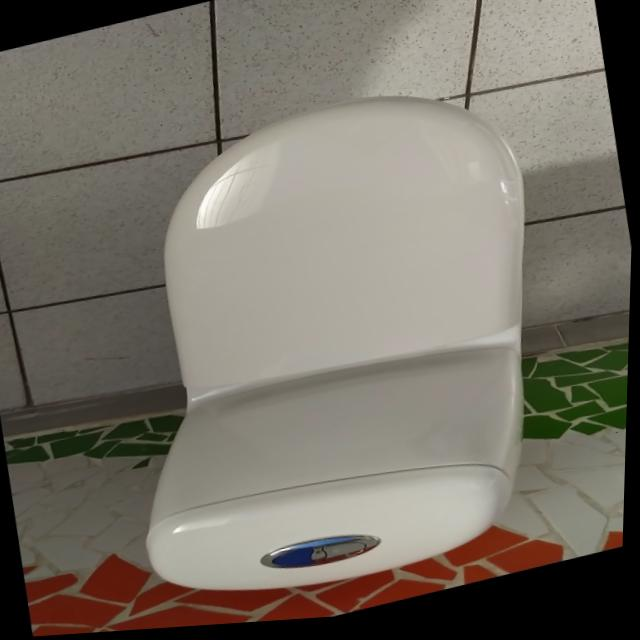toilet: (78, 63, 590, 634)
